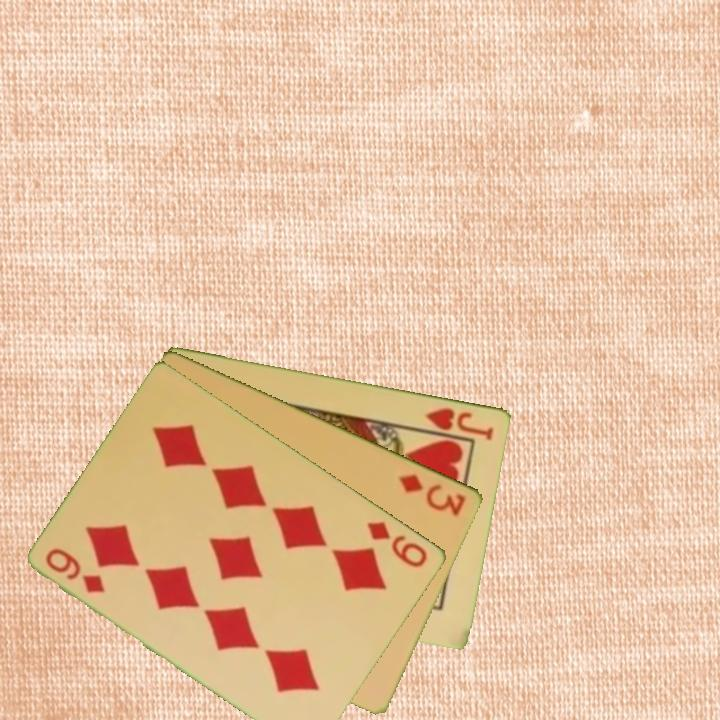3d: (395, 469, 470, 519)
9d: (364, 517, 431, 571), (42, 544, 109, 596)
Jh: (422, 404, 497, 443)
